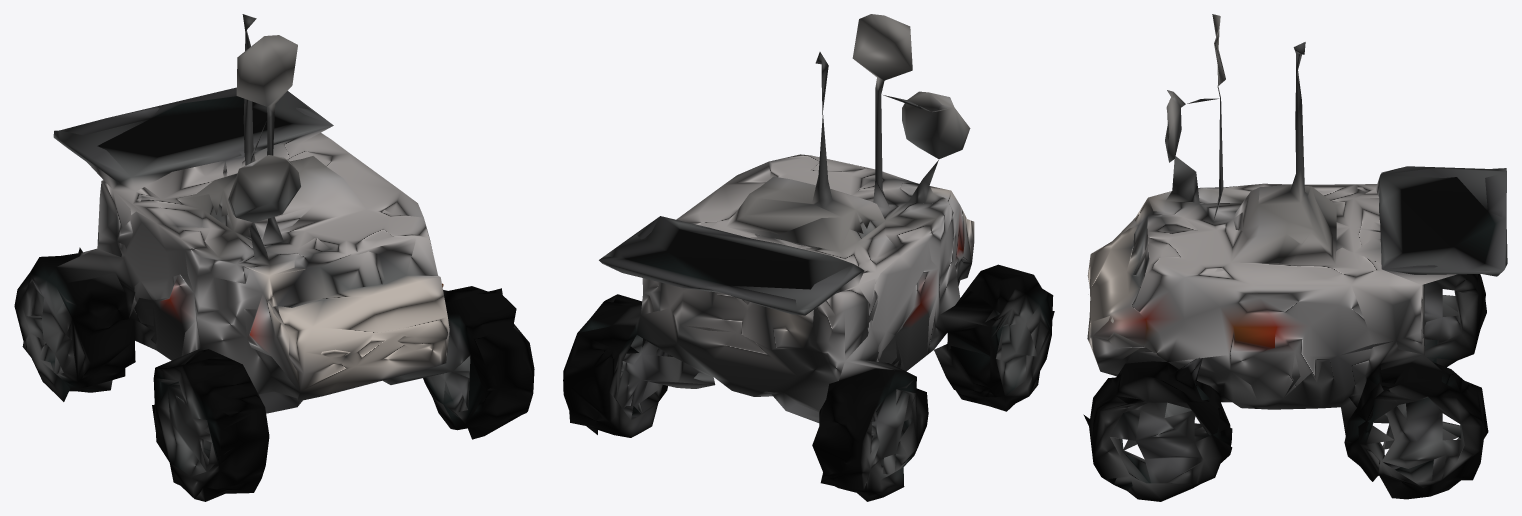
File: gen3d-moon-rover-lod0.glb
3 views of the same model, side by side, from view 1: azimuth 30°, elevation 25°; view 2: azimuth 150°, elevation 25°; view 3: azimuth 270°, elevation 25° (orthographic). The views are drawn at different scales.
Visible parts, largest first — view 1: part_0; view 2: part_0; view 3: part_0.
Part boxes in pixels (bbox=[...]): part_0: bbox=[14, 14, 534, 501]; part_0: bbox=[563, 14, 1054, 501]; part_0: bbox=[1083, 14, 1507, 501].
Size of the model in its own units: 0.8104 by 0.9945 by 0.9712.
